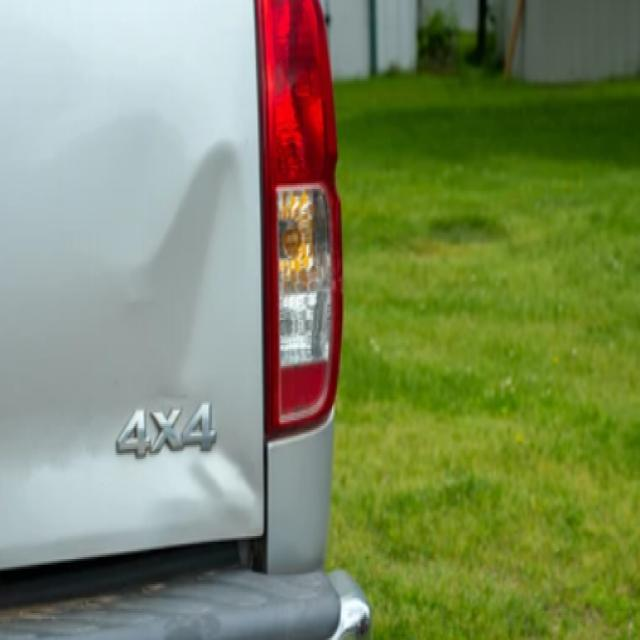dents: (121, 136, 269, 442)
